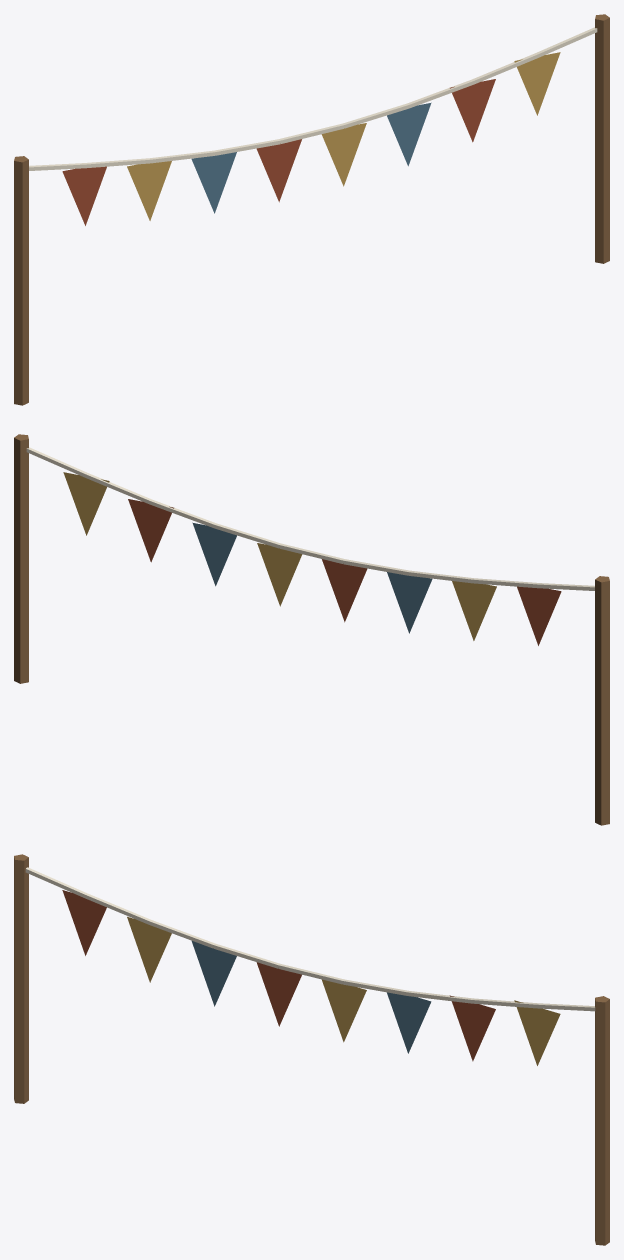
The model's file is dress-bunting.glb.
The picture shows the model from 3 angles, top to bottom: view 1: azimuth 30°, elevation 25°; view 2: azimuth 150°, elevation 25°; view 3: azimuth 330°, elevation 25°; orthographic projection.
Parts seen in each view (by area): view 1: dress-bunting; view 2: dress-bunting; view 3: dress-bunting.
Boxes of the visible parts, <box> form: dress-bunting: <box>14,14,609,405</box>; dress-bunting: <box>14,434,609,825</box>; dress-bunting: <box>14,854,609,1245</box>.
Size of the model in its own units: 5.11 by 2 by 0.1141.
Materials: 1 (1 with a texture image).
